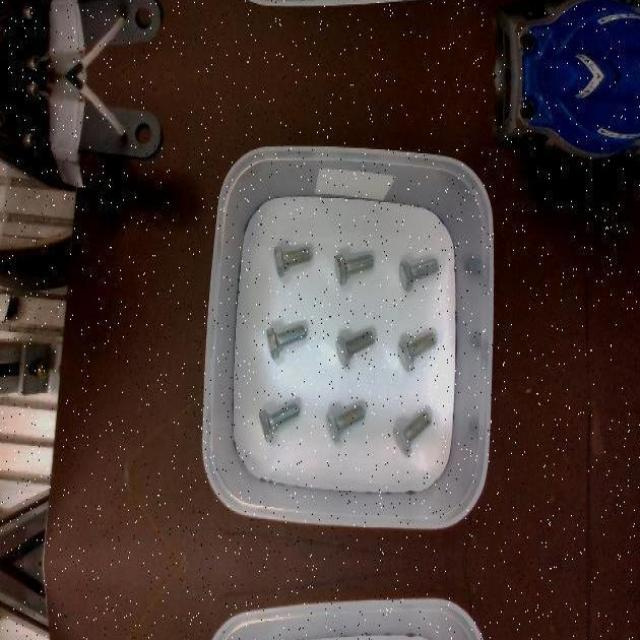screw: (392, 411, 431, 455), (260, 401, 300, 442), (396, 331, 437, 370), (326, 404, 365, 442), (336, 329, 375, 366), (267, 325, 307, 359), (399, 259, 438, 292), (334, 253, 373, 284), (274, 245, 311, 277)
